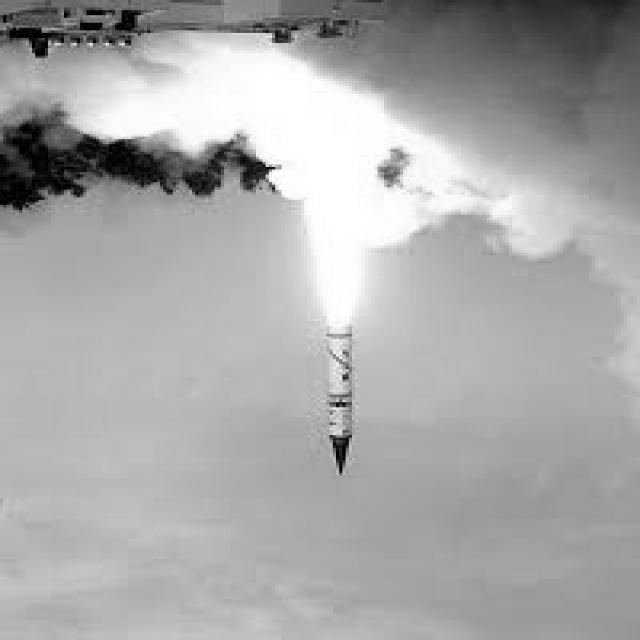missile: (319, 311, 359, 481)
